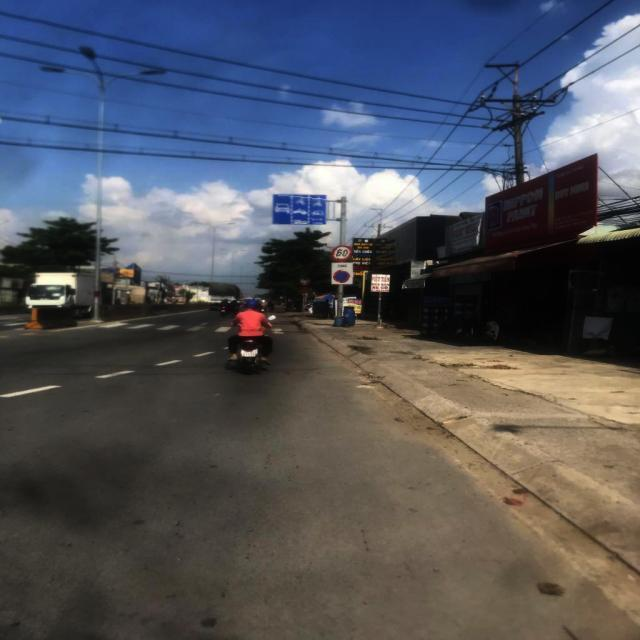127-toc-do-toi-da-60: (332, 245, 352, 262)
